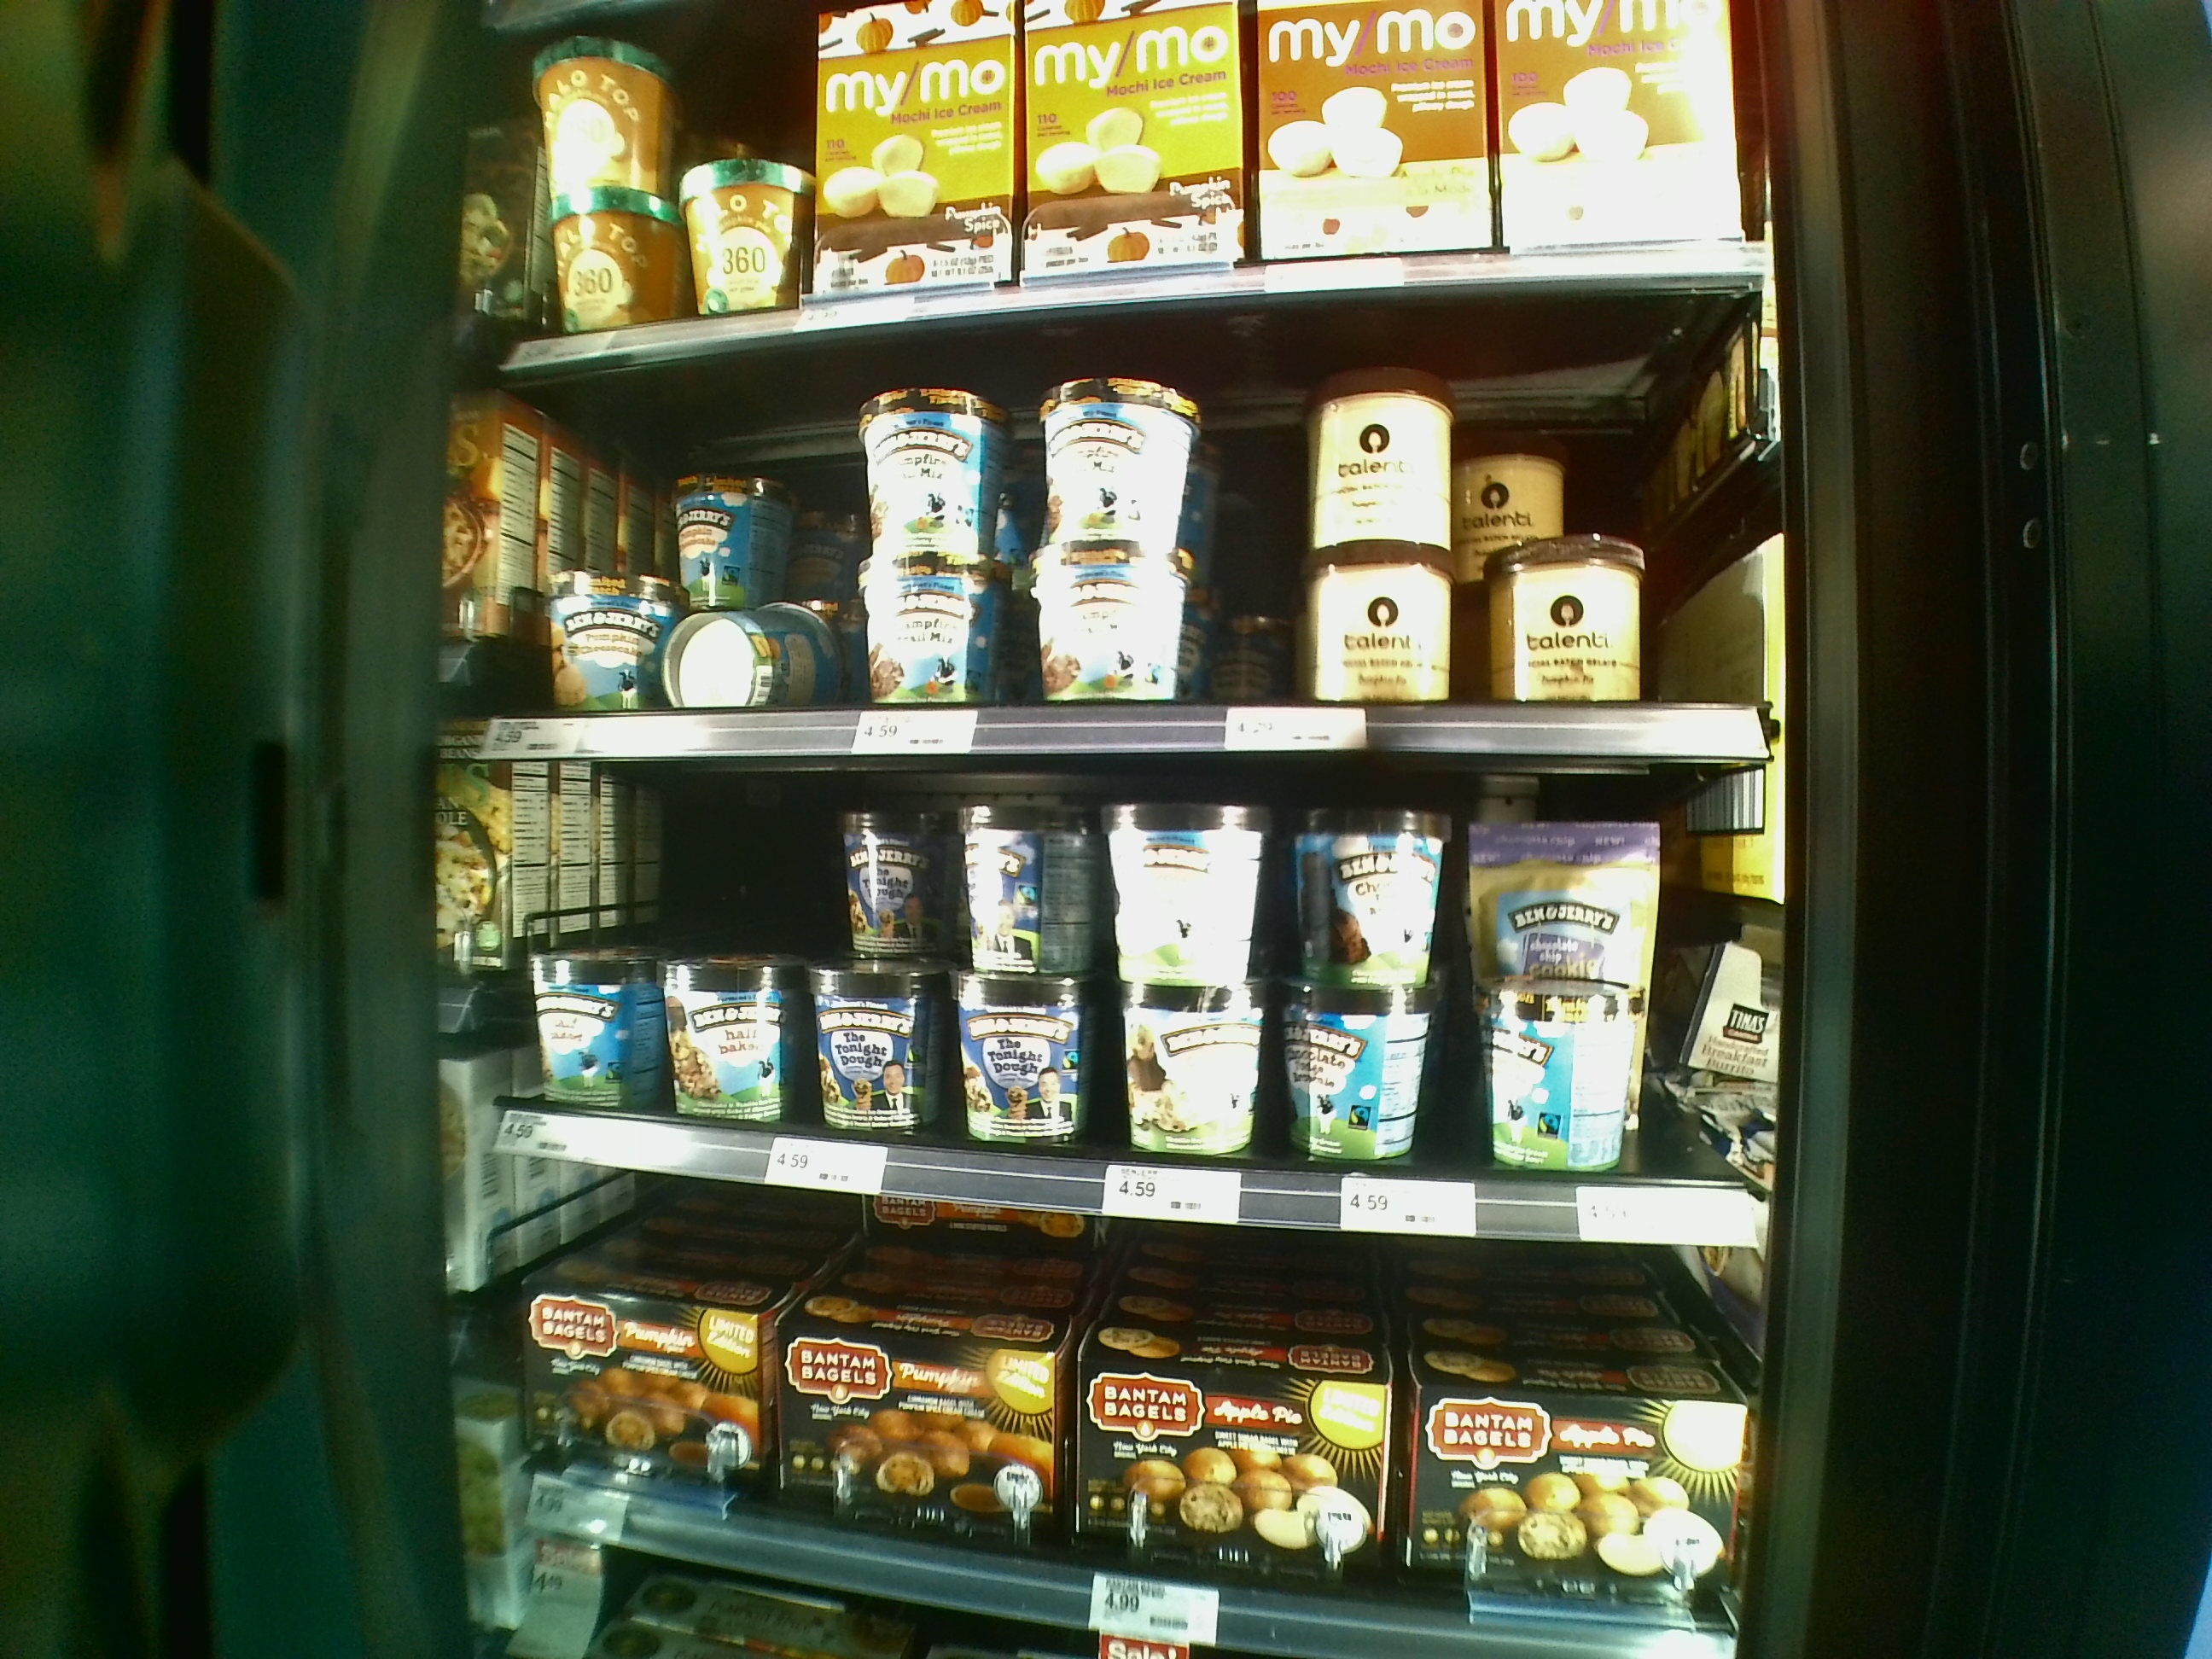shelf: (427, 741, 1764, 1262), (456, 349, 1806, 769)
